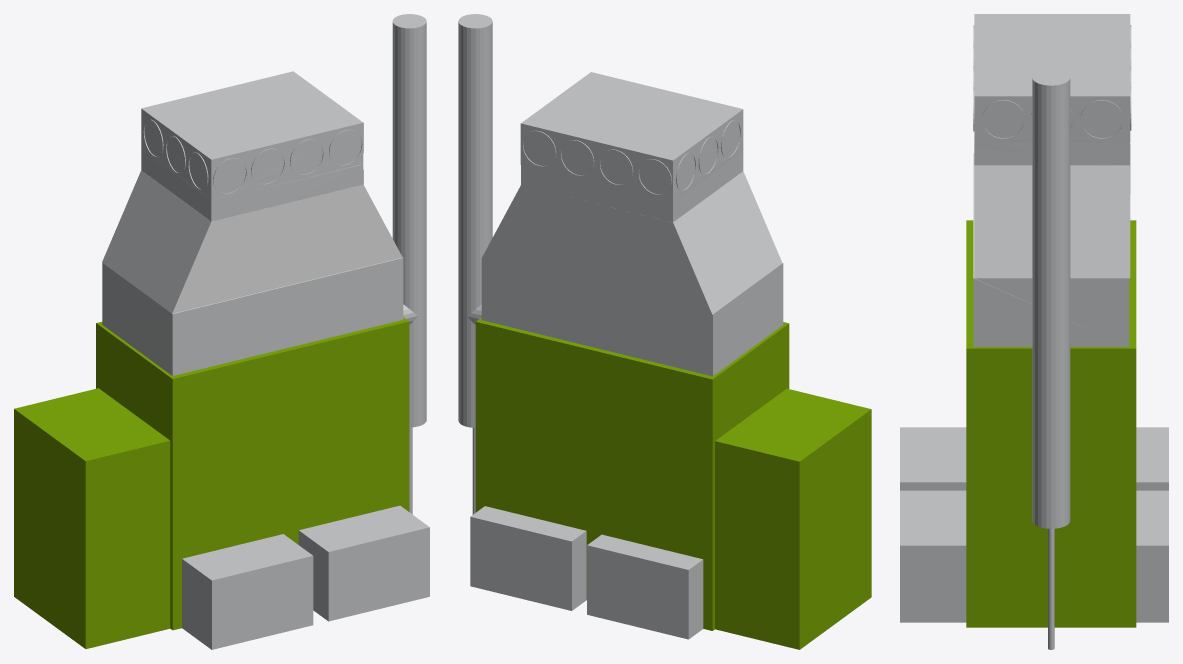
File: wanson.3.glb
The picture shows the model from 3 angles, left to right: view 1: azimuth 30°, elevation 25°; view 2: azimuth 150°, elevation 25°; view 3: azimuth 270°, elevation 25°; orthographic projection. The views are drawn at different scales.
Visible parts, largest first — view 1: imagetostl_mesh20, imagetostl_mesh3, imagetostl_mesh376, imagetostl_mesh23, imagetostl_mesh13, imagetostl_mesh481, imagetostl_mesh574, imagetostl_mesh15, imagetostl_mesh16, imagetostl_mesh407, imagetostl_mesh5, imagetostl_mesh7 (+18 smaller); view 2: imagetostl_mesh24, imagetostl_mesh2, imagetostl_mesh591, imagetostl_mesh43, imagetostl_mesh13, imagetostl_mesh481, imagetostl_mesh574, imagetostl_mesh8, imagetostl_mesh18, imagetostl_mesh579, imagetostl_mesh5, imagetostl_mesh7 (+18 smaller); view 3: imagetostl_mesh44, imagetostl_mesh572, imagetostl_mesh481, imagetostl_mesh39, imagetostl_mesh368, imagetostl_mesh12, imagetostl_mesh0, imagetostl_mesh6, imagetostl_mesh57, imagetostl_mesh60, imagetostl_mesh56, imagetostl_mesh366 (+15 smaller).
Boxes of the visible parts, bbox=[...] form: imagetostl_mesh20: bbox=[172, 321, 409, 630]; imagetostl_mesh3: bbox=[85, 441, 170, 648]; imagetostl_mesh376: bbox=[172, 184, 402, 313]; imagetostl_mesh23: bbox=[172, 258, 403, 375]; imagetostl_mesh13: bbox=[14, 409, 85, 648]; imagetostl_mesh481: bbox=[141, 71, 362, 159]; imagetostl_mesh574: bbox=[102, 170, 210, 313]; imagetostl_mesh15: bbox=[212, 556, 313, 649]; imagetostl_mesh16: bbox=[328, 527, 429, 621]; imagetostl_mesh407: bbox=[211, 123, 363, 201]; imagetostl_mesh5: bbox=[14, 388, 169, 460]; imagetostl_mesh7: bbox=[96, 323, 172, 629]; imagetostl_mesh24: bbox=[475, 322, 712, 630]; imagetostl_mesh2: bbox=[715, 441, 799, 649]; imagetostl_mesh591: bbox=[481, 185, 711, 314]; imagetostl_mesh43: bbox=[481, 258, 712, 376]; imagetostl_mesh13: bbox=[799, 409, 871, 649]; imagetostl_mesh481: bbox=[521, 72, 742, 160]; imagetostl_mesh574: bbox=[673, 171, 782, 314]; imagetostl_mesh8: bbox=[470, 517, 571, 610]; imagetostl_mesh18: bbox=[587, 545, 688, 639]; imagetostl_mesh579: bbox=[520, 123, 672, 201]; imagetostl_mesh5: bbox=[715, 388, 870, 461]; imagetostl_mesh7: bbox=[712, 324, 789, 630]; imagetostl_mesh44: bbox=[966, 348, 1136, 627]; imagetostl_mesh572: bbox=[974, 165, 1130, 278]; imagetostl_mesh481: bbox=[974, 14, 1130, 96]; imagetostl_mesh39: bbox=[973, 278, 1129, 346]; imagetostl_mesh368: bbox=[975, 96, 1130, 142]; imagetostl_mesh12: bbox=[900, 545, 966, 622]; imagetostl_mesh0: bbox=[900, 490, 966, 545]; imagetostl_mesh6: bbox=[900, 427, 966, 482]; imagetostl_mesh57: bbox=[1051, 85, 1056, 528]; imagetostl_mesh60: bbox=[1046, 85, 1051, 528]; imagetostl_mesh56: bbox=[1041, 84, 1046, 528]; imagetostl_mesh366: bbox=[974, 142, 1129, 165].
Size of the model in its own units: 3.49 by 4.57 by 1.95.
